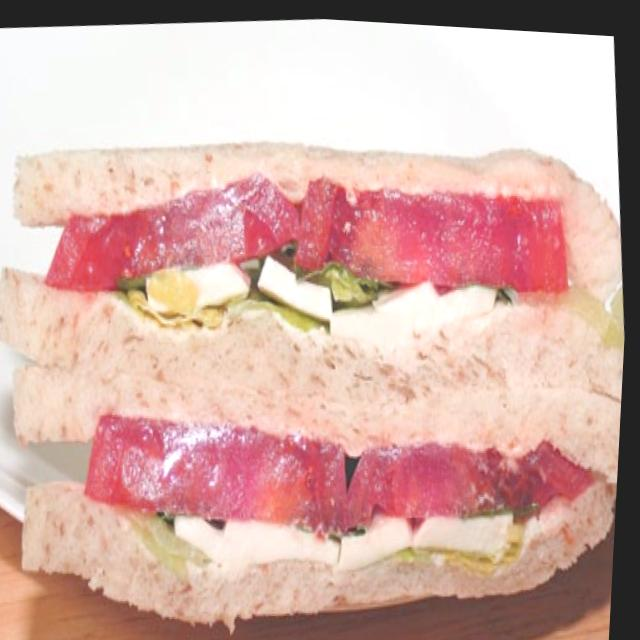三明治: (0, 73, 637, 640)
